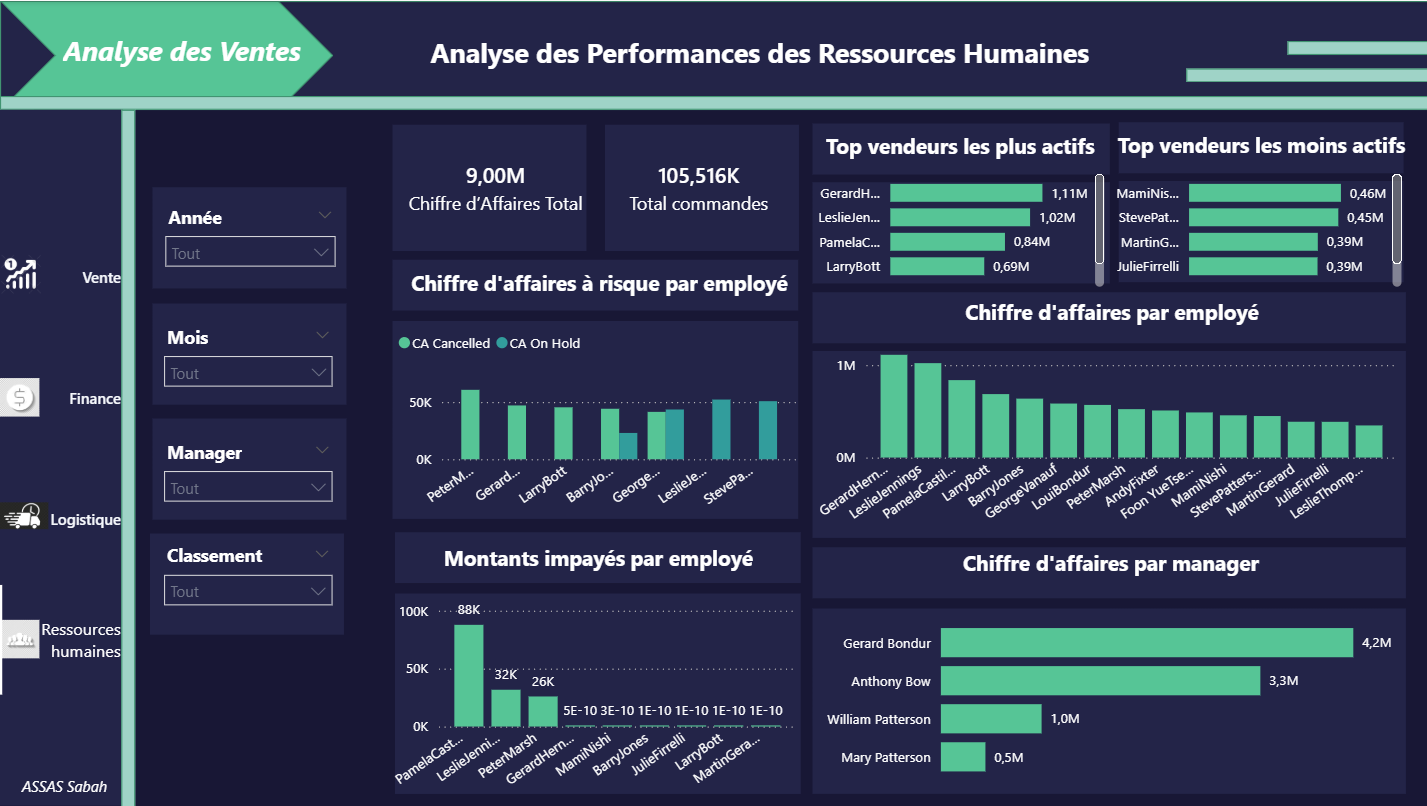

This screenshot's page, from the dashboard's own definition file:
{"tool":"powerbi","page":{"name":"Ressources humaines ","canvas":[1280,720],"ordinal":3},"visuals":[{"type":"shape","box":[353.3,474.4,362.8,45.3],"z":0},{"type":"shape","box":[0,0,1280.3,97.4],"z":1000},{"type":"shape","box":[352.3,529.1,362.8,179.1],"z":2000},{"type":"shape","box":[0,0,297.8,97.4],"z":3000},{"type":"shape","box":[0,85.1,1280.3,12.3],"z":4000},{"type":"shape","box":[1059.4,60.4,220.9,12.3],"z":5000},{"type":"textbox","box":[51.2,23.8,228.8,61.2],"z":6000},{"type":"shape","box":[726.3,542.6,530.1,165.6],"z":7000},{"type":"shape","box":[136,269.8,173.3,90.7],"z":8000},{"type":"shape","box":[0,97.4,109.9,621.9],"z":9000},{"type":"shape","box":[351.2,110.5,173.3,112.8],"z":10000},{"type":"shape","box":[135.8,372.6,173.3,90.7],"z":11000},{"type":"shape","box":[108.5,97.4,12.5,623.3],"z":12000},{"type":"shape","box":[133.7,475.6,173.3,90.7],"z":13000},{"type":"shape","box":[540.7,110.5,173.3,112.8],"z":14000},{"type":"shape","box":[136,166.3,173.3,90.7],"z":15000},{"type":"shape","box":[1150.6,36.2,129.4,12.5],"z":16000},{"type":"textbox","box":[297.8,24,761.3,61.2],"z":17000},{"type":"shape","box":[726.3,260.2,530.1,45.9],"z":18000},{"type":"shape","box":[726.3,313,530.1,167],"z":19000},{"type":"shape","box":[351.2,286,362.8,176.7],"z":20000},{"type":"shape","box":[726.3,488.3,530.1,45.9],"z":21000},{"type":"shape","box":[351.2,231.4,362.8,45.3],"z":22000},{"type":"textbox","box":[726.3,260.2,530.1,51.5],"z":23000},{"type":"cardVisual","fields":{"Data":["orderdetails.Produits Vendus"]},"box":[533.1,110.5,183.7,112.9],"z":24000},{"type":"slicer","fields":{"Values":["Calendrier.Année"]},"box":[137.2,176.7,172.1,109.3],"z":25000},{"type":"cardVisual","fields":{"Data":["orderdetails.Chiffre d'afaires Total"]},"box":[332.6,110.5,220.9,112.9],"z":26000},{"type":"shape","box":[726.3,161.4,265.7,90.4],"z":27000},{"type":"shape","box":[726.3,109.9,265.7,45.9],"z":28000},{"type":"shape","box":[998.9,160.3,254.6,90.4],"z":29000},{"type":"shape","box":[998.9,108.8,254.6,45.9],"z":30000},{"type":"slicer","fields":{"Values":["Calendrier.Mois"]},"box":[136.3,283.8,171.1,109.9],"z":31000},{"type":"clusteredBarChart","fields":{"Y":["orderdetails.Chiffre d’Affaires Total"],"Category":["employees.employee_name"]},"box":[714,141.9,277.9,118.6],"z":32000},{"type":"clusteredBarChart","fields":{"Y":["orderdetails.Chiffre d’Affaires Total"],"Category":["employees.employee_name"]},"box":[980.2,141.9,276.7,118.6],"z":33000},{"type":"clusteredColumnChart","fields":{"Y":["orderdetails.Chiffre d’Affaires Total"],"Category":["employees.employee_name"]},"box":[724.4,269.8,527.9,205.8],"z":34000},{"type":"textbox","box":[989.4,110.5,275,51.6],"z":35000},{"type":"textbox","box":[720.5,111.7,275,51.6],"z":36000},{"type":"slicer","fields":{"Values":["employees.manager_name"]},"box":[136.2,386.4,170.8,110.5],"z":37000},{"type":"barChart","fields":{"Category":["employees.manager_name"],"Y":["orderdetails.Chiffre d’Affaires Total"]},"box":[724.4,533.7,532.6,174.4],"z":38000},{"type":"textbox","box":[724.4,484.9,530.2,52.3],"z":39000},{"type":"textbox","box":[351.2,480.2,362.8,52.3],"z":40000},{"type":"clusteredColumnChart","fields":{"Y":["payments.Montant Restant à Encaisser"],"Category":["employees.employee_name"]},"box":[343,520.9,373.3,191.9],"z":41000},{"type":"image","box":[0,305,34.8,98.5],"z":42000},{"type":"image","box":[0,524.7,34.8,90.1],"z":43000},{"type":"image","box":[1.2,218.5,34.8,50.4],"z":44000},{"type":"image","box":[0,431.1,43.2,57.6],"z":45000},{"type":"pageNavigator","box":[0,197.7,108.1,422.1],"z":46000},{"type":"clusteredColumnChart","fields":{"Y":["orderdetails.CA Cancelled","orderdetails.CA On Hold"],"Category":["employees.employee_name"]},"box":[350.6,285.8,366.2,177.7],"z":47000},{"type":"textbox","box":[353,234.1,360.2,51.6],"z":48000},{"type":"slicer","fields":{"Values":["Ranking.Classement"]},"box":[135.7,479.1,170.5,110.5],"z":49000},{"type":"textbox","box":[0,688,115.3,31.2],"z":50000}]}

Visuals, with their boxes on the page's 1280x720 design canvas (x1, y1, x2, y2). These are canvas units, not pixel positions in the 1427x806 screenshot, which may show the page scaled, cropped or inside an application window:
shape: [353,474,716,520]
shape: [0,0,1280,97]
shape: [352,529,715,708]
shape: [0,0,298,97]
shape: [0,85,1280,97]
shape: [1059,60,1280,73]
textbox: [51,24,280,85]
shape: [726,543,1256,708]
shape: [136,270,309,360]
shape: [0,97,110,719]
shape: [351,110,524,223]
shape: [136,373,309,463]
shape: [108,97,121,721]
shape: [134,476,307,566]
shape: [541,110,714,223]
shape: [136,166,309,257]
shape: [1151,36,1280,49]
textbox: [298,24,1059,85]
shape: [726,260,1256,306]
shape: [726,313,1256,480]
shape: [351,286,714,463]
shape: [726,488,1256,534]
shape: [351,231,714,277]
textbox: [726,260,1256,312]
cardVisual - orderdetails.Produits Vendus: [533,110,717,223]
slicer - Calendrier.Année: [137,177,309,286]
cardVisual - orderdetails.Chiffre d'afaires Total: [333,110,554,223]
shape: [726,161,992,252]
shape: [726,110,992,156]
shape: [999,160,1254,251]
shape: [999,109,1254,155]
slicer - Calendrier.Mois: [136,284,307,394]
clusteredBarChart - orderdetails.Chiffre d’Affaires Total x employees.employee_name: [714,142,992,260]
clusteredBarChart - orderdetails.Chiffre d’Affaires Total x employees.employee_name: [980,142,1257,260]
clusteredColumnChart - orderdetails.Chiffre d’Affaires Total x employees.employee_name: [724,270,1252,476]
textbox: [989,110,1264,162]
textbox: [720,112,996,163]
slicer - employees.manager_name: [136,386,307,497]
barChart - employees.manager_name x orderdetails.Chiffre d’Affaires Total: [724,534,1257,708]
textbox: [724,485,1255,537]
textbox: [351,480,714,532]
clusteredColumnChart - payments.Montant Restant à Encaisser x employees.employee_name: [343,521,716,713]
image: [0,305,35,404]
image: [0,525,35,615]
image: [1,218,36,269]
image: [0,431,43,489]
pageNavigator: [0,198,108,620]
clusteredColumnChart - orderdetails.CA Cancelled x orderdetails.CA On Hold: [351,286,717,464]
textbox: [353,234,713,286]
slicer - Ranking.Classement: [136,479,306,590]
textbox: [0,688,115,719]
